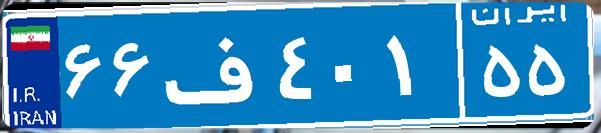0: (330, 28, 385, 110)
1: (385, 28, 445, 110)
4: (273, 28, 330, 110)
5: (475, 38, 525, 113), (525, 38, 570, 115)
6: (57, 26, 110, 107), (110, 28, 158, 105)
ف: (158, 15, 273, 115)
